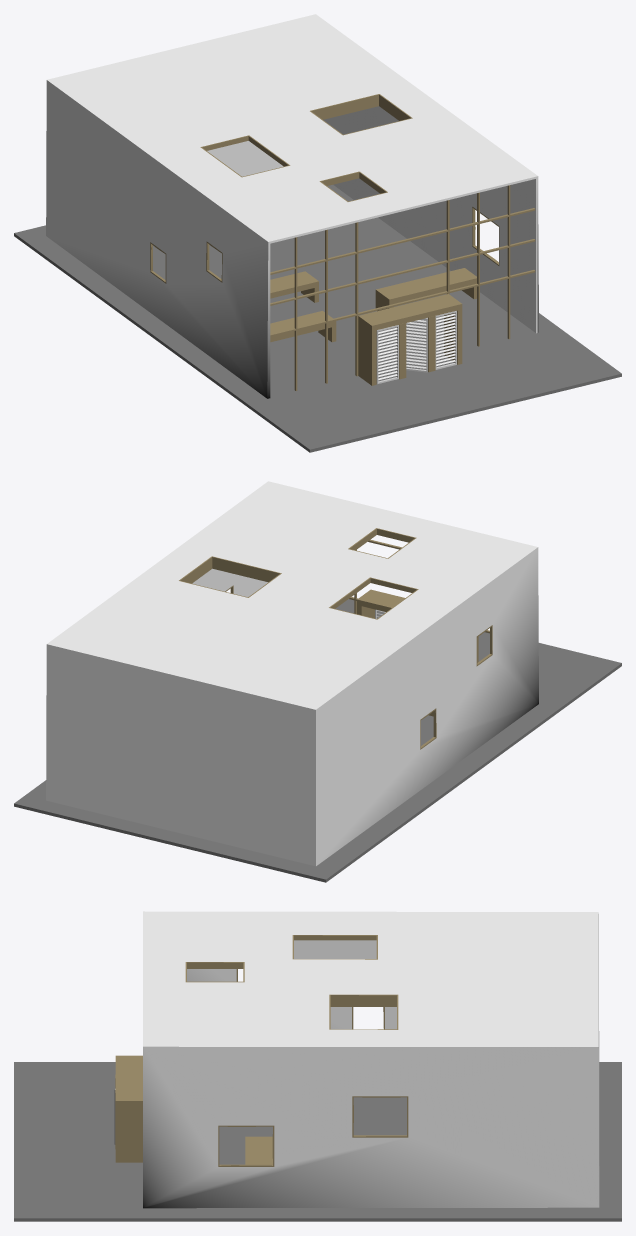
File: interior_1.FBX
3 renders of one model, top to bottom at view 1: azimuth 30°, elevation 25°; view 2: azimuth 150°, elevation 25°; view 3: azimuth 270°, elevation 25°, orthographic. The views are drawn at different scales.
Parts seen in each view (by area): view 1: wall, ground, entrance_door, windos_top, furniture02, furniture01, furniture03, Line09, Line11, Line10, Line03, Line08 (+1 smaller); view 2: wall, ground, windos_top, entrance_door; view 3: wall, ground, entrance_door, windos_top, windows_bottom, furniture02.
Part boxes in pixels (x1,y1,x2,y2): wall: [46, 14, 538, 398]; ground: [14, 185, 621, 452]; entrance_door: [358, 294, 462, 385]; windos_top: [200, 94, 412, 201]; furniture02: [375, 268, 476, 311]; furniture01: [270, 311, 336, 342]; furniture03: [270, 271, 318, 302]; Line09: [270, 208, 535, 274]; Line11: [270, 270, 535, 336]; Line10: [270, 239, 535, 305]; Line03: [355, 222, 358, 376]; Line08: [507, 185, 510, 339]; wall: [46, 481, 538, 866]; ground: [14, 599, 621, 882]; windos_top: [179, 528, 418, 619]; entrance_door: [357, 589, 404, 618]; wall: [143, 911, 599, 1208]; ground: [14, 1062, 621, 1221]; entrance_door: [115, 1055, 142, 1162]; windos_top: [185, 935, 398, 1029]; windows_bottom: [218, 1096, 408, 1166]; furniture02: [245, 1136, 272, 1164].
Size of the model in its own units: 106 by 51.71 by 174.
